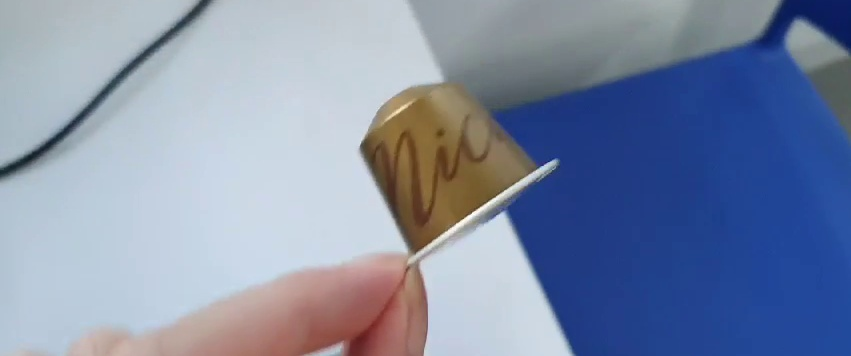capsule_9: (353, 78, 565, 271)
